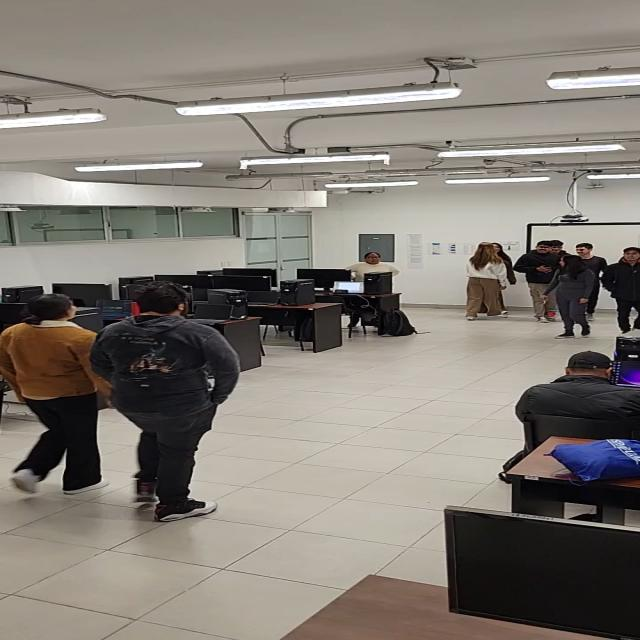Persona: (101, 280, 225, 503), (6, 297, 100, 481), (459, 240, 509, 314), (553, 257, 594, 329), (602, 247, 639, 322), (522, 232, 554, 318), (352, 251, 396, 270), (572, 238, 604, 260)
